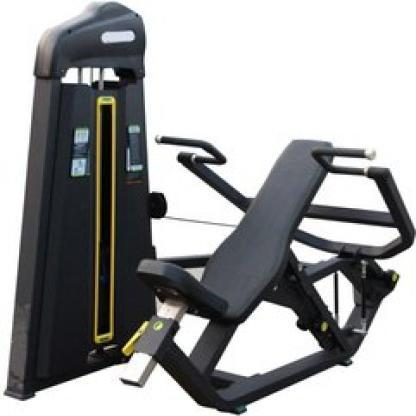shoulder press machine: (0, 1, 416, 416)
